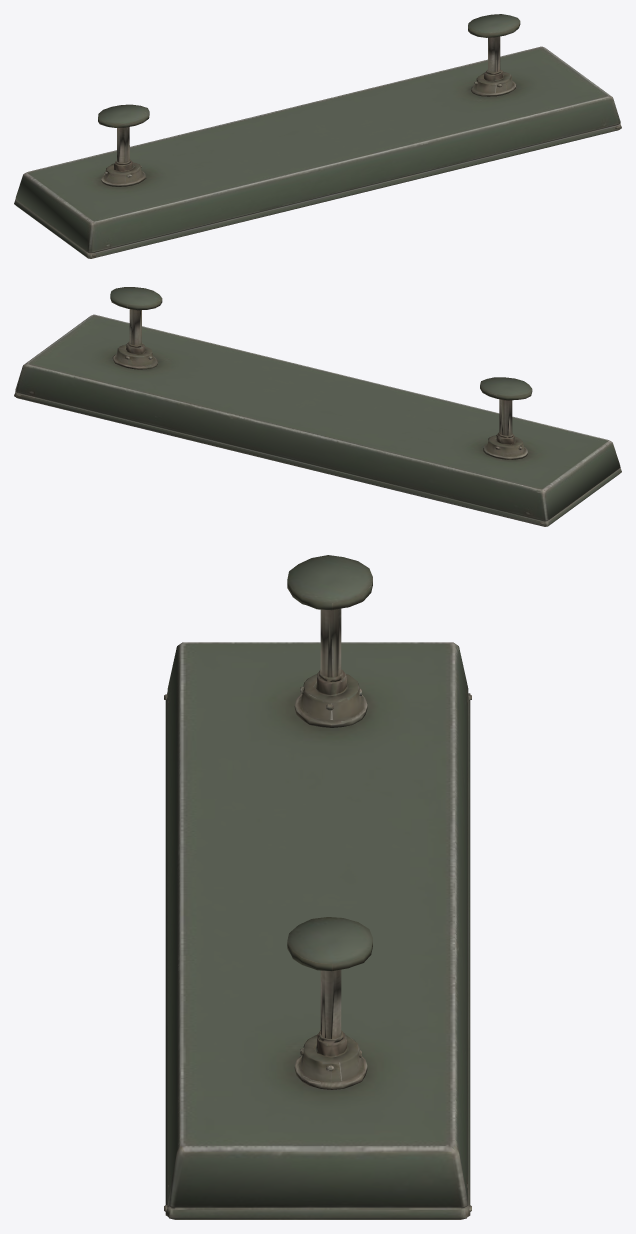
File: lighting-strip-double.glb
3 renders of one model, top to bottom at view 1: azimuth 30°, elevation 25°; view 2: azimuth 150°, elevation 25°; view 3: azimuth 270°, elevation 25°, orthographic. The views are drawn at different scales.
Visible parts, largest first — view 1: tripo_node_8d598d51-e2ef-4ab3-9929-63825bbdfae5; view 2: tripo_node_8d598d51-e2ef-4ab3-9929-63825bbdfae5; view 3: tripo_node_8d598d51-e2ef-4ab3-9929-63825bbdfae5.
Part boxes in pixels (box(x1,y1,x2,y2)): tripo_node_8d598d51-e2ef-4ab3-9929-63825bbdfae5: box(14, 14, 621, 258); tripo_node_8d598d51-e2ef-4ab3-9929-63825bbdfae5: box(14, 287, 621, 526); tripo_node_8d598d51-e2ef-4ab3-9929-63825bbdfae5: box(164, 555, 471, 1219).
Bounding box in the file's own units: 1 × 0.18 × 0.25.
Materials: 1 (1 with a texture image).
